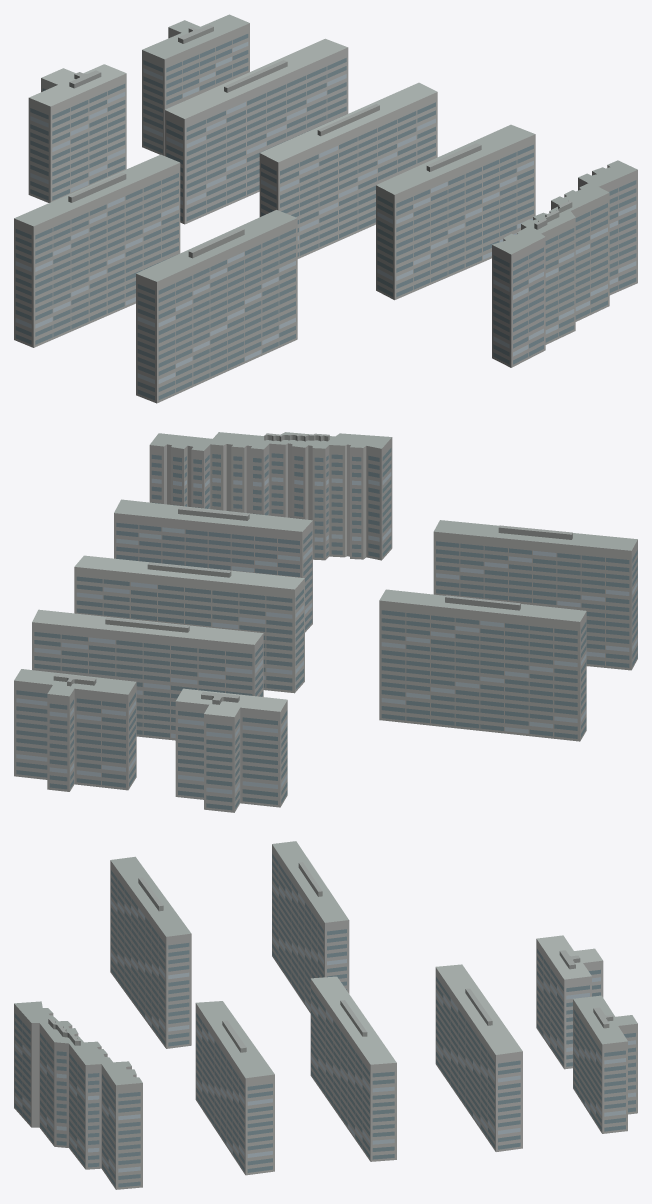
The model's file is apt-a13994302.glb.
The picture shows the model from 3 angles, top to bottom: view 1: azimuth 30°, elevation 25°; view 2: azimuth 150°, elevation 25°; view 3: azimuth 270°, elevation 25°; orthographic projection. The views are drawn at different scales.
Visible parts, largest first — view 1: apt-a13994302; view 2: apt-a13994302; view 3: apt-a13994302.
Boxes of the visible parts, x1,y1,x2,y2 form: apt-a13994302: (14, 14, 637, 403); apt-a13994302: (14, 432, 637, 812); apt-a13994302: (14, 841, 637, 1189).
Bounding box in the file's own units: 207 × 47.81 × 231.
